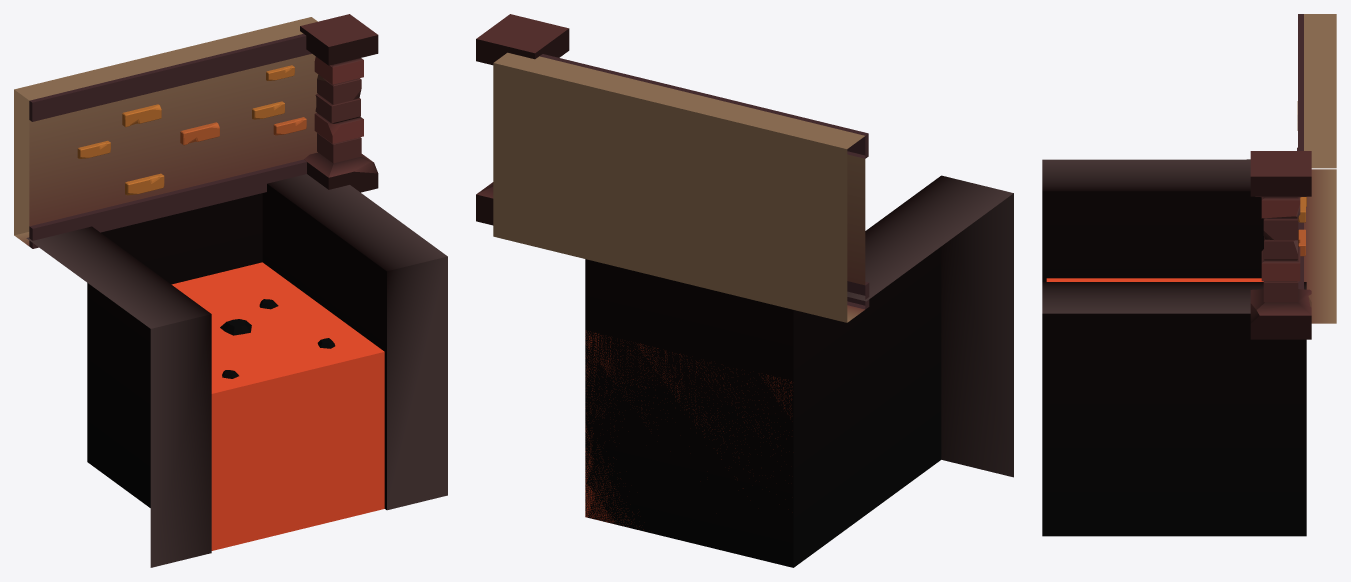
Rendered from Lava_Platform.fbx.
The picture shows the model from 3 angles, left to right: view 1: azimuth 30°, elevation 25°; view 2: azimuth 150°, elevation 25°; view 3: azimuth 270°, elevation 25°; orthographic projection. The views are drawn at different scales.
Parts seen in each view (by area): view 1: Run_Lava_Platform; view 2: Run_Lava_Platform; view 3: Run_Lava_Platform.
Part boxes in pixels (x1,y1,x2,y2): Run_Lava_Platform: (14, 14, 447, 567); Run_Lava_Platform: (476, 14, 1013, 567); Run_Lava_Platform: (1042, 14, 1336, 536).
Size of the model in its own units: 7.67 by 8.59 by 5.64.
